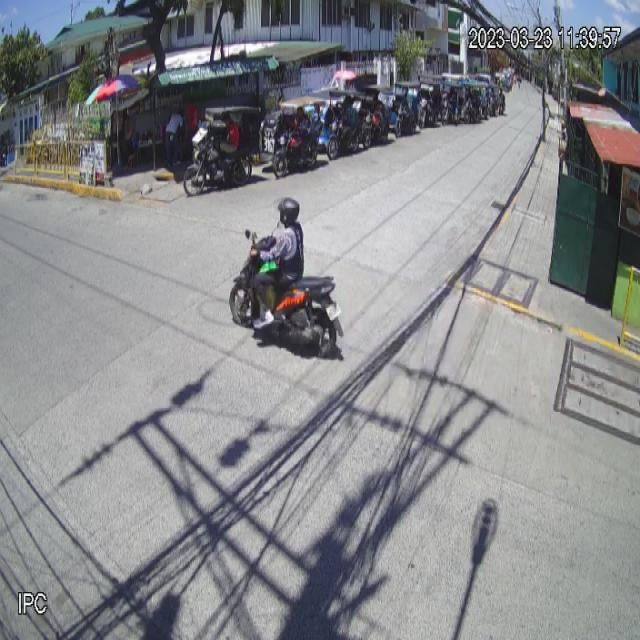Motorcycle: (228, 228, 344, 360)
